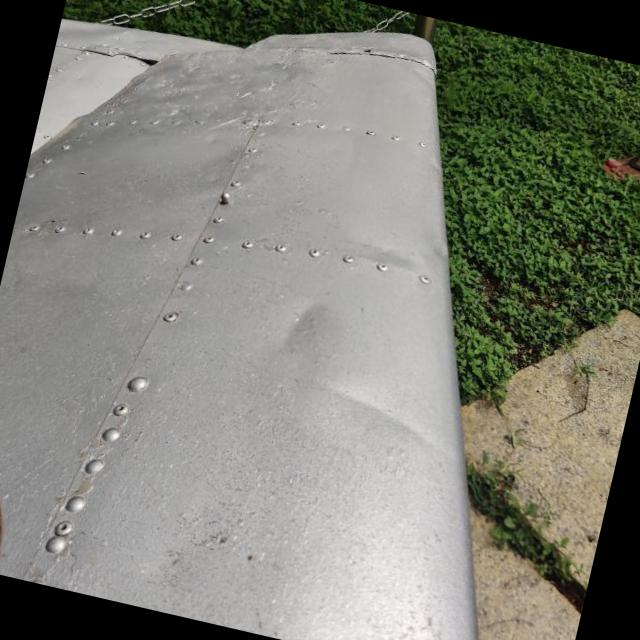Dent: (314, 337, 463, 467), (252, 283, 361, 385)
